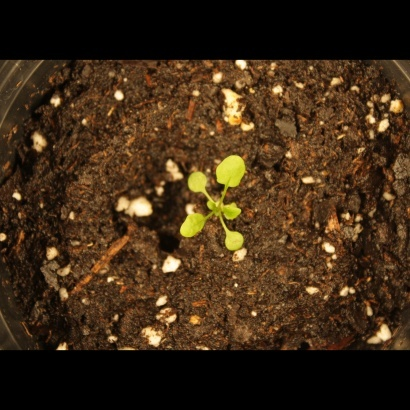leaf: (214, 145, 251, 191), (174, 208, 209, 244), (181, 166, 210, 199), (220, 196, 249, 226), (224, 226, 247, 252)
